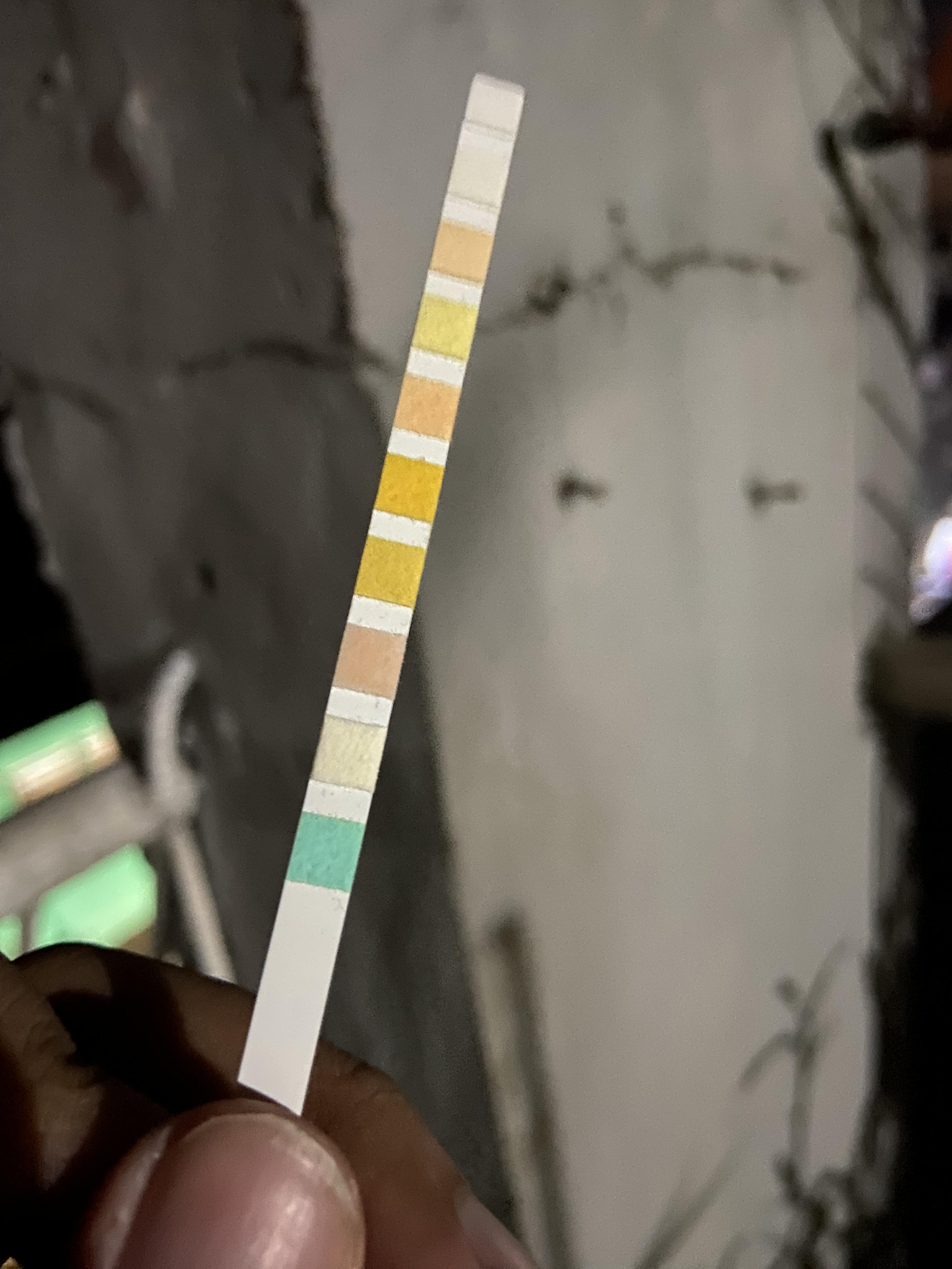Bilirubin: (325, 724, 378, 783)
Blood: (386, 462, 438, 515)
Glucose: (300, 823, 354, 880)
Ketone: (345, 632, 399, 688)
Leukocytes: (477, 84, 519, 125)
Nitrite: (456, 161, 503, 196)
Protein: (422, 305, 472, 352)
SpGravity: (365, 546, 418, 596)
Urobilinogen: (440, 233, 486, 274)
pH: (404, 384, 453, 432)
strip: (236, 78, 528, 1106)
